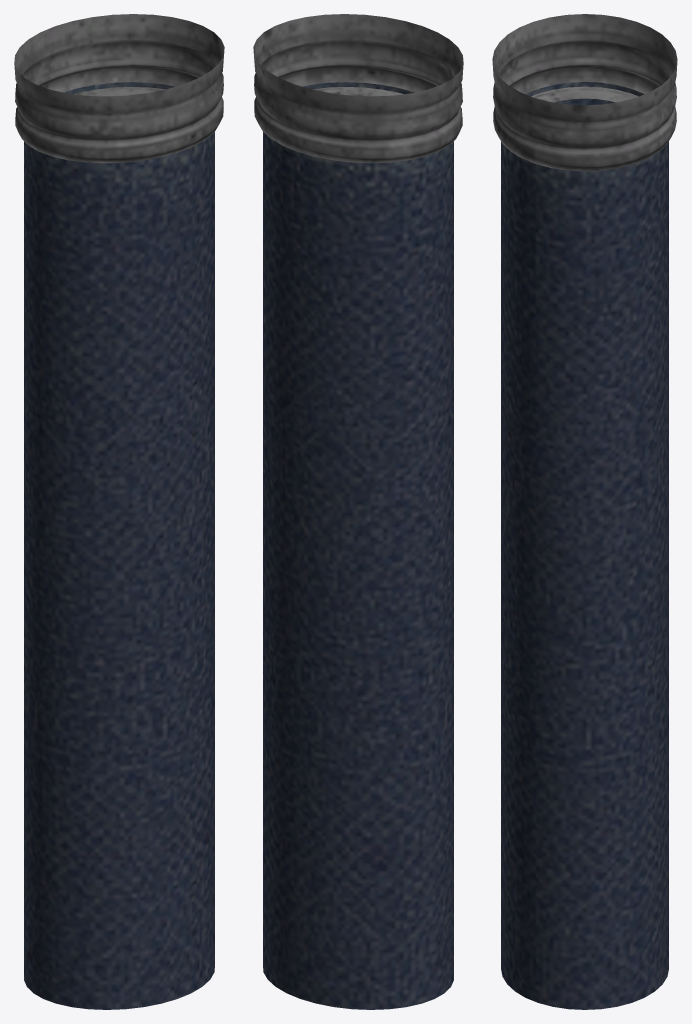
The model's file is wm_swan_knight_sword_b_hilt.fbx.
3 views of the same model, side by side, from view 1: azimuth 30°, elevation 25°; view 2: azimuth 150°, elevation 25°; view 3: azimuth 270°, elevation 25° (orthographic).
Parts seen in each view (by area): view 1: wm_swan_knight_sword_b_hilt; view 2: wm_swan_knight_sword_b_hilt; view 3: wm_swan_knight_sword_b_hilt.
Part boxes in pixels (x1,y1,x2,y2): wm_swan_knight_sword_b_hilt: (14, 14, 224, 1009); wm_swan_knight_sword_b_hilt: (253, 14, 463, 1009); wm_swan_knight_sword_b_hilt: (492, 14, 677, 1009).
Bounding box in the file's own units: 0.0309 × 0.0264 × 0.1432.
Materials: 1 (1 with a texture image).
